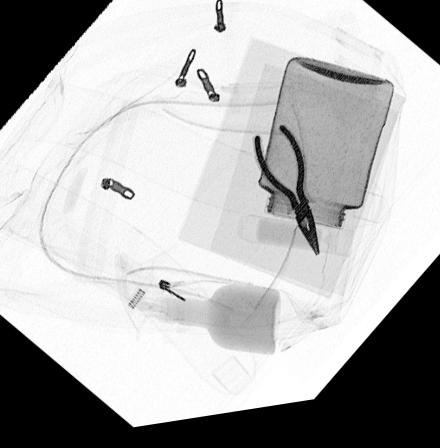Pliers: (250, 128, 321, 267)
